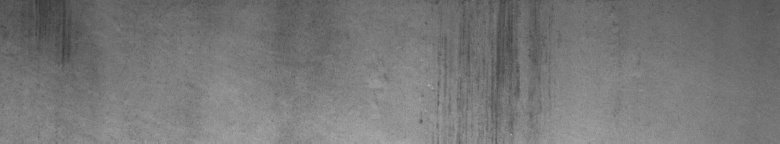ka: (419, 4, 537, 135)
